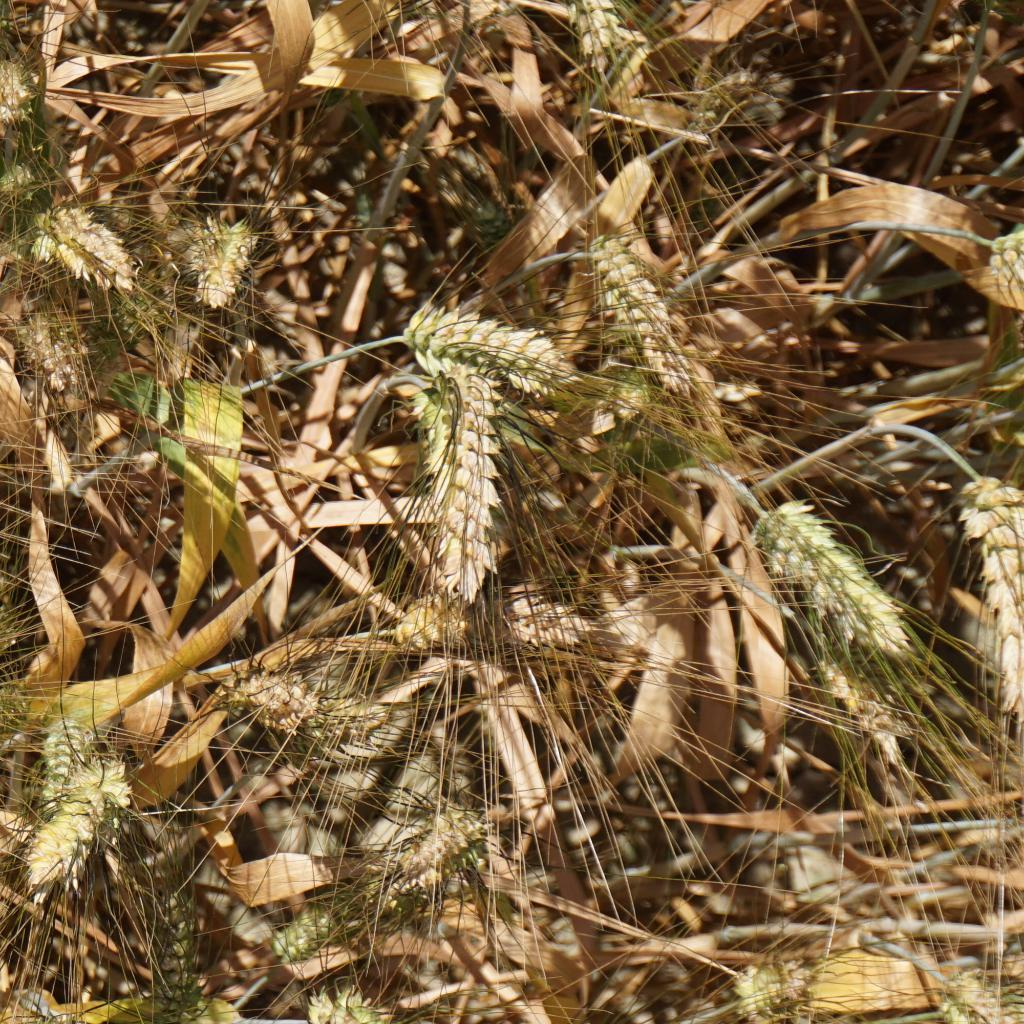0-0: (740, 492, 900, 649), (421, 358, 519, 592), (937, 458, 1024, 695), (19, 745, 144, 907), (372, 293, 567, 390), (804, 624, 916, 778), (581, 228, 683, 374), (263, 683, 393, 783), (21, 177, 137, 289), (60, 274, 195, 352), (135, 870, 200, 1024), (6, 297, 96, 407), (212, 657, 322, 738), (391, 797, 482, 893), (172, 211, 257, 310), (296, 978, 458, 1024), (714, 69, 799, 139), (262, 902, 341, 968), (0, 53, 55, 147), (455, 179, 518, 261), (391, 598, 474, 659), (577, 0, 642, 72), (509, 590, 586, 649), (736, 953, 809, 1012), (29, 712, 82, 793), (0, 671, 48, 758), (947, 978, 1017, 1024), (0, 151, 44, 215), (0, 561, 21, 672), (19, 996, 98, 1024)
